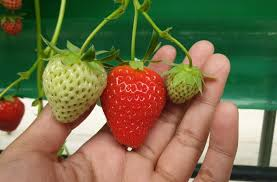ripe: (101, 61, 168, 155), (1, 94, 28, 138), (2, 10, 30, 39)
unripe: (42, 48, 106, 128), (164, 63, 204, 105)
